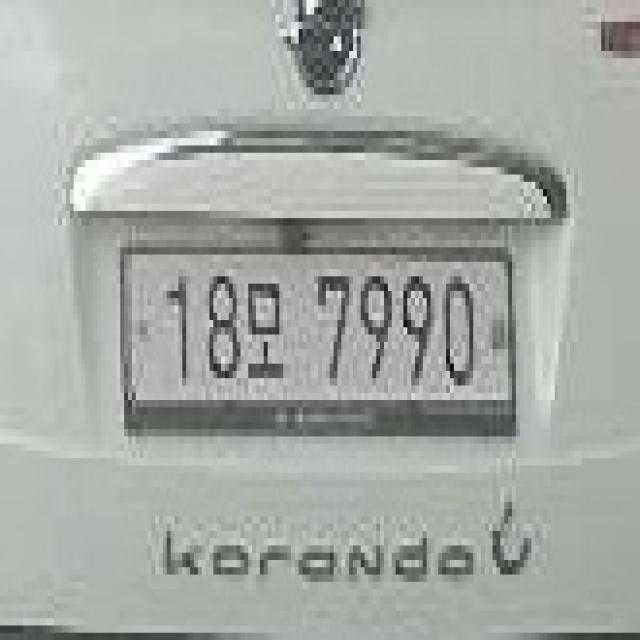0: (438, 269, 481, 400)
1: (155, 262, 198, 393)
7: (310, 262, 357, 393)
8: (202, 269, 240, 393)
9: (356, 262, 396, 400), (396, 269, 438, 393)
license_plate: (112, 225, 524, 466)
mo: (240, 262, 291, 400)
